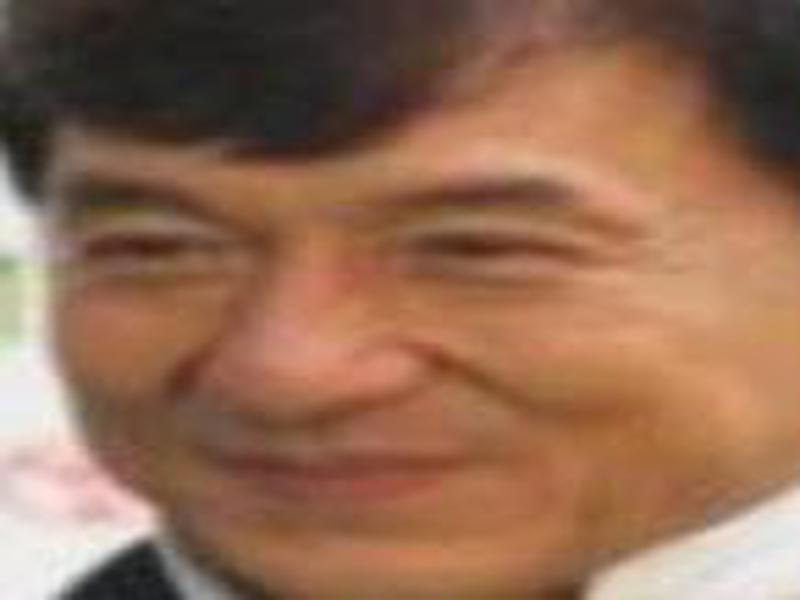without_mask: (40, 116, 800, 570)
